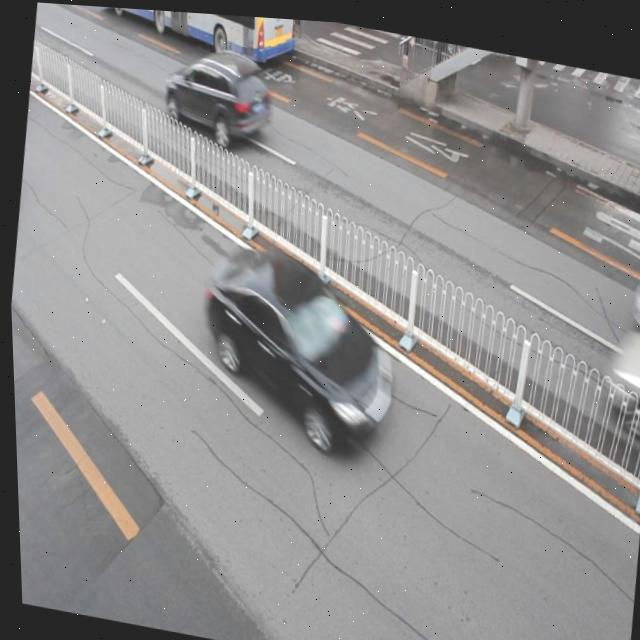car: (188, 227, 405, 452), (158, 34, 277, 151)
van: (92, 5, 295, 58)
